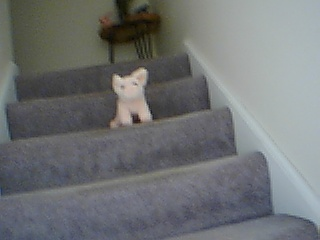piggy: (108, 66, 154, 127)
